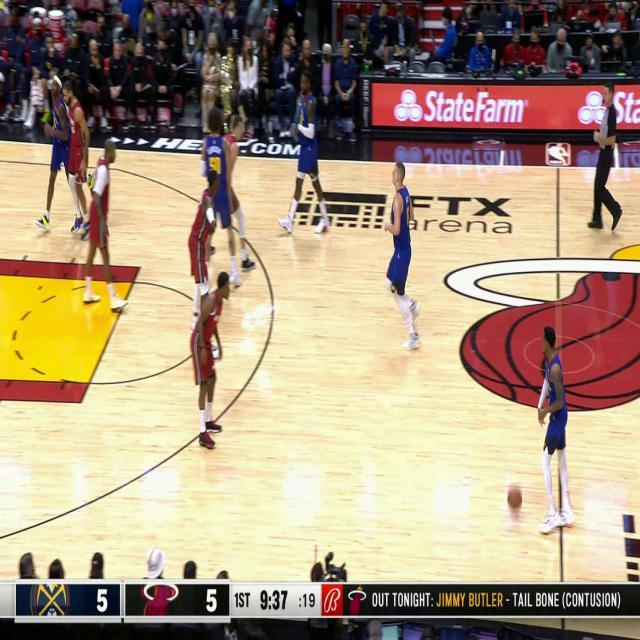rim: (507, 483, 522, 510)
